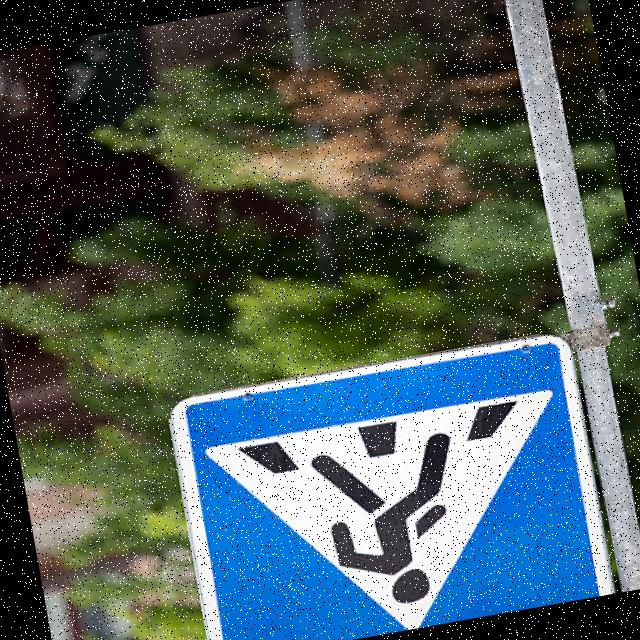crosswalk: (141, 314, 614, 640)
